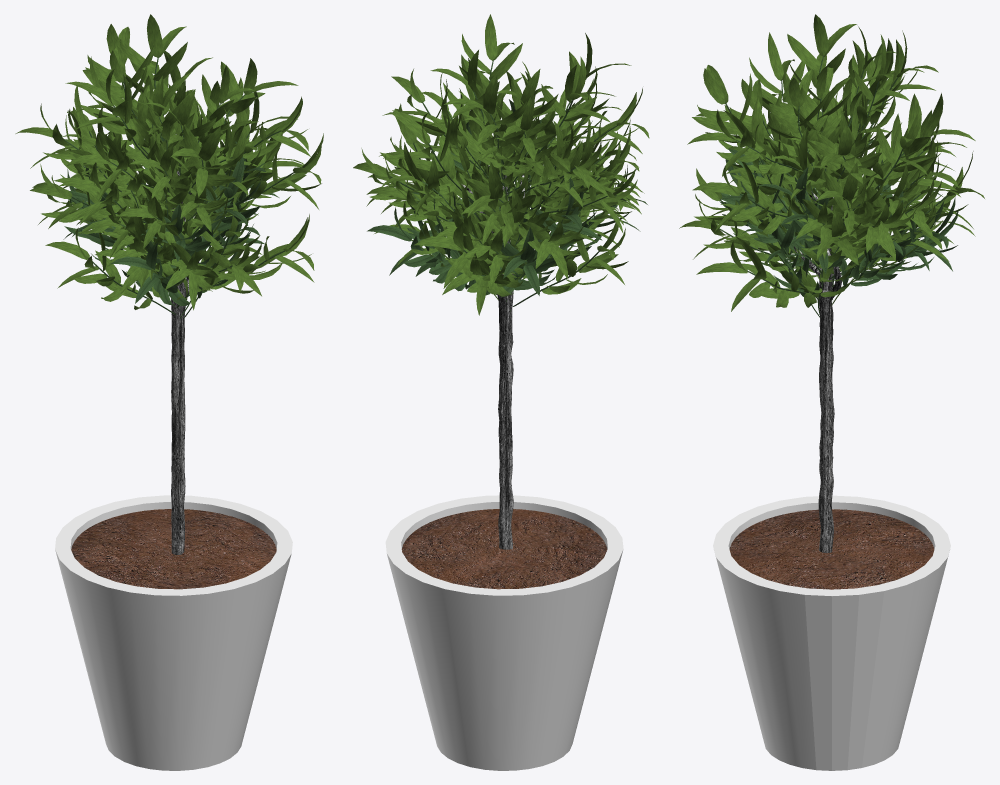
Rendered from planta.obj.
The picture shows the model from 3 angles, left to right: view 1: azimuth 30°, elevation 25°; view 2: azimuth 150°, elevation 25°; view 3: azimuth 270°, elevation 25°; orthographic projection.
Parts seen in each view (by area): view 1: Planta_OK.001; view 2: Planta_OK.001; view 3: Planta_OK.001.
Boxes of the visible parts, x1=… form: Planta_OK.001: x1=15, y1=14, x2=323, y2=770; Planta_OK.001: x1=353, y1=14, x2=649, y2=770; Planta_OK.001: x1=679, y1=14, x2=984, y2=770.
Bounding box in the file's own units: 0.673 × 1.75 × 0.69.
